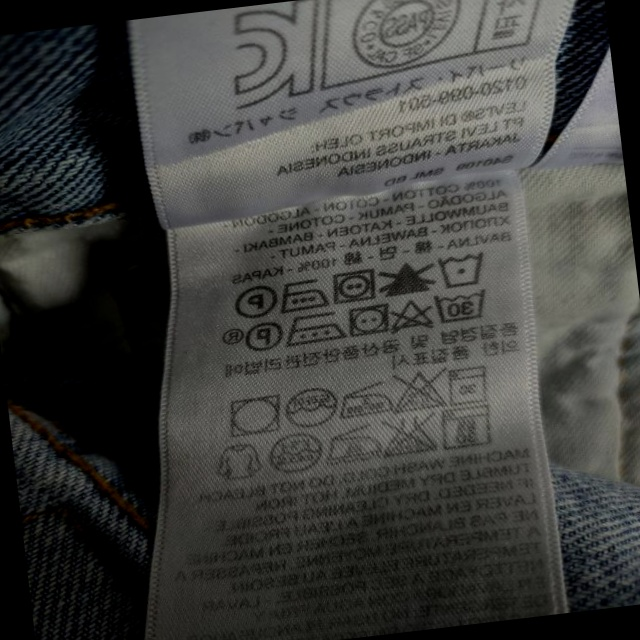30C: (438, 398, 495, 452), (443, 361, 490, 406), (437, 249, 485, 292), (432, 291, 487, 325)
DN_bleach: (387, 365, 443, 415), (382, 257, 434, 300), (390, 296, 434, 335)
dry_clean: (279, 381, 338, 436), (262, 428, 321, 475)
dry_clean_any_solvent_except_trichloroethylene: (231, 282, 276, 320), (243, 316, 283, 356)
iron: (322, 423, 382, 469)
iron_high: (283, 308, 344, 348), (274, 272, 328, 315)
iron_medium: (331, 375, 394, 422)
tumble_dry_medium: (325, 262, 379, 307), (340, 302, 392, 338)
tumble_dry_normal: (220, 388, 283, 438)
